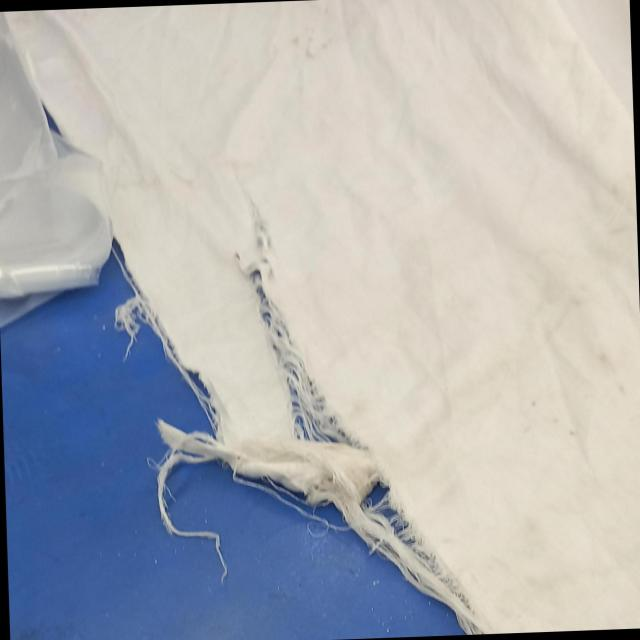cut: (235, 219, 347, 450), (346, 467, 486, 614), (96, 207, 173, 402), (14, 83, 90, 184)
